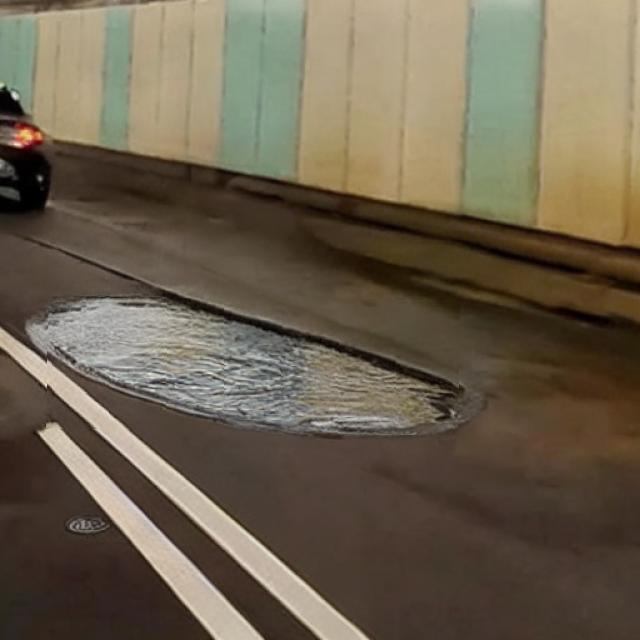puddle: (48, 298, 460, 435)
